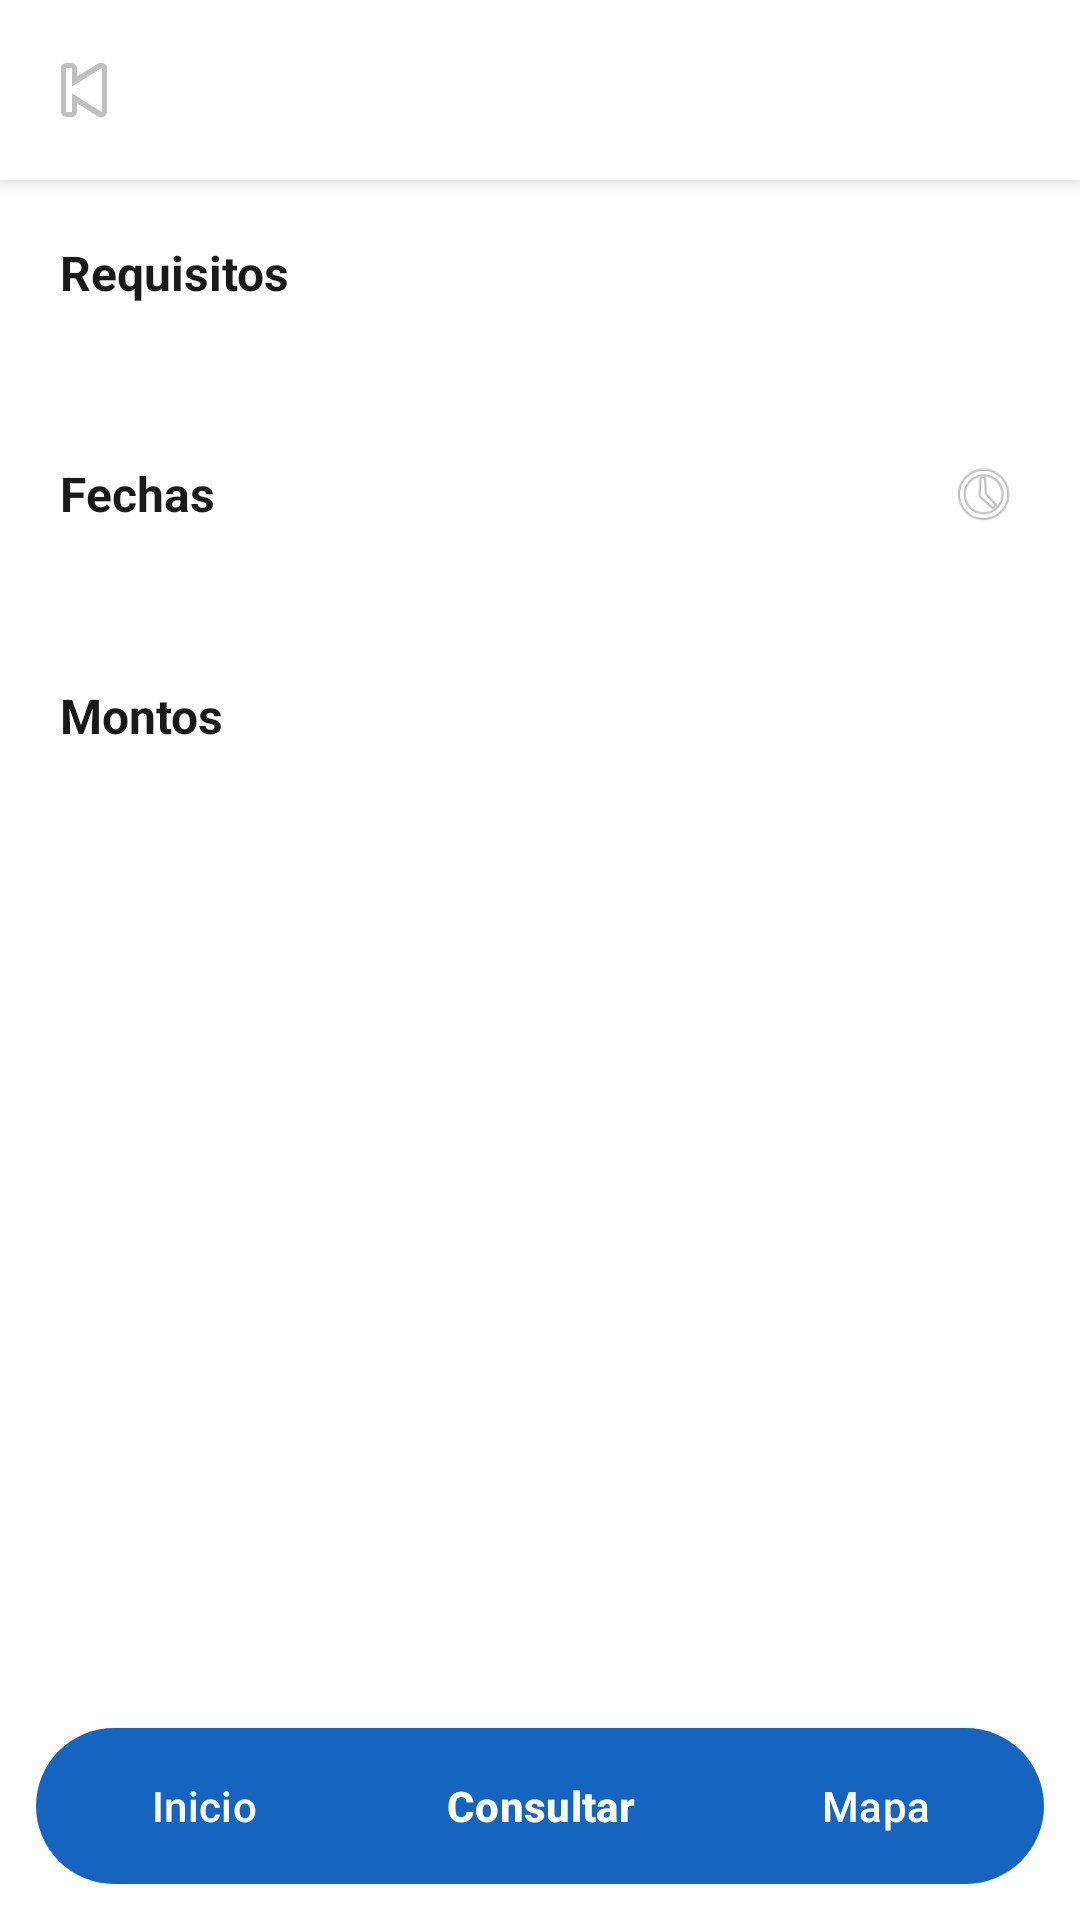

Locate icon controls on the screen. Image size 1080px×1920px, boxes as (x1, y1, x2, y2).
previous: (61, 63, 107, 117)
recent history: (958, 468, 1010, 520)
